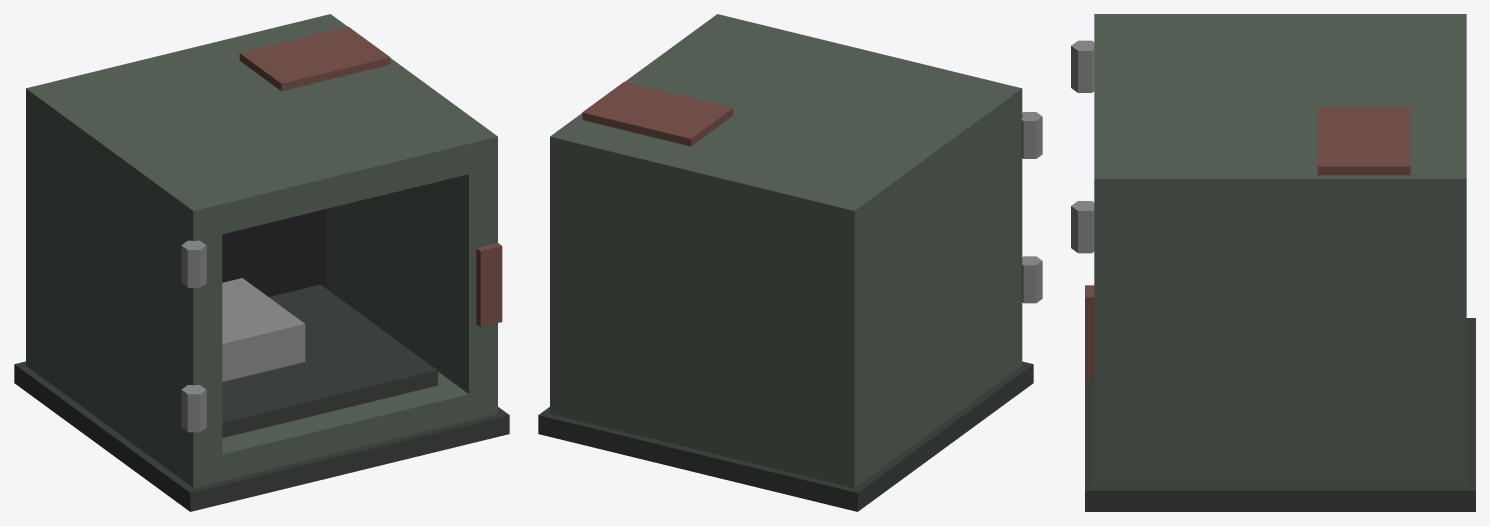
File: ancient_safe_open.obj
The picture shows the model from 3 angles, left to right: view 1: azimuth 30°, elevation 25°; view 2: azimuth 150°, elevation 25°; view 3: azimuth 270°, elevation 25°; orthographic projection. The views are drawn at different scales.
Parts seen in each view (by area): view 1: ancient_safe_open; view 2: ancient_safe_open; view 3: ancient_safe_open.
Part boxes in pixels (x1,y1,x2,y2): ancient_safe_open: (14,14,509,511); ancient_safe_open: (538,14,1042,511); ancient_safe_open: (1071,14,1475,511).
Size of the model in its own units: 0.896 by 0.8 by 0.87.
